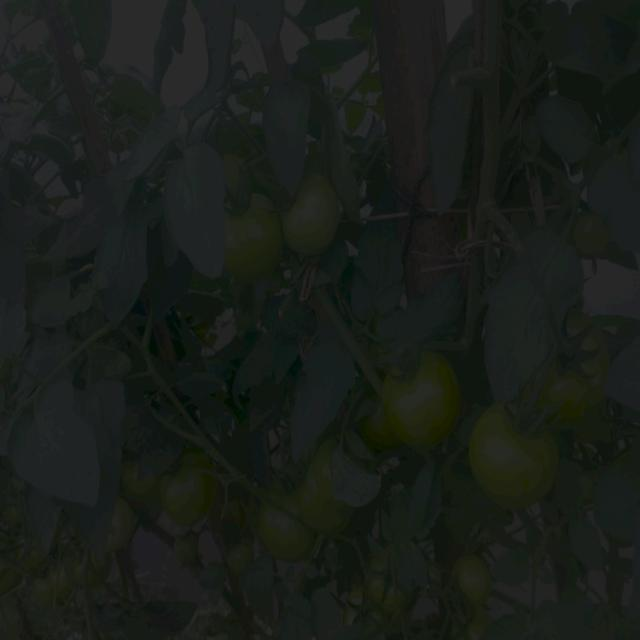tomato: (466, 413, 565, 503), (385, 359, 462, 450), (538, 320, 606, 418), (223, 189, 291, 276), (291, 458, 354, 541), (166, 462, 233, 530), (263, 487, 321, 562), (285, 182, 346, 253), (455, 548, 500, 620), (368, 566, 419, 622), (570, 211, 617, 261), (61, 541, 105, 591), (2, 530, 42, 573), (341, 592, 389, 623), (227, 536, 259, 580), (34, 569, 77, 601), (123, 463, 158, 502), (100, 515, 139, 550), (221, 159, 255, 196), (173, 528, 198, 557)
